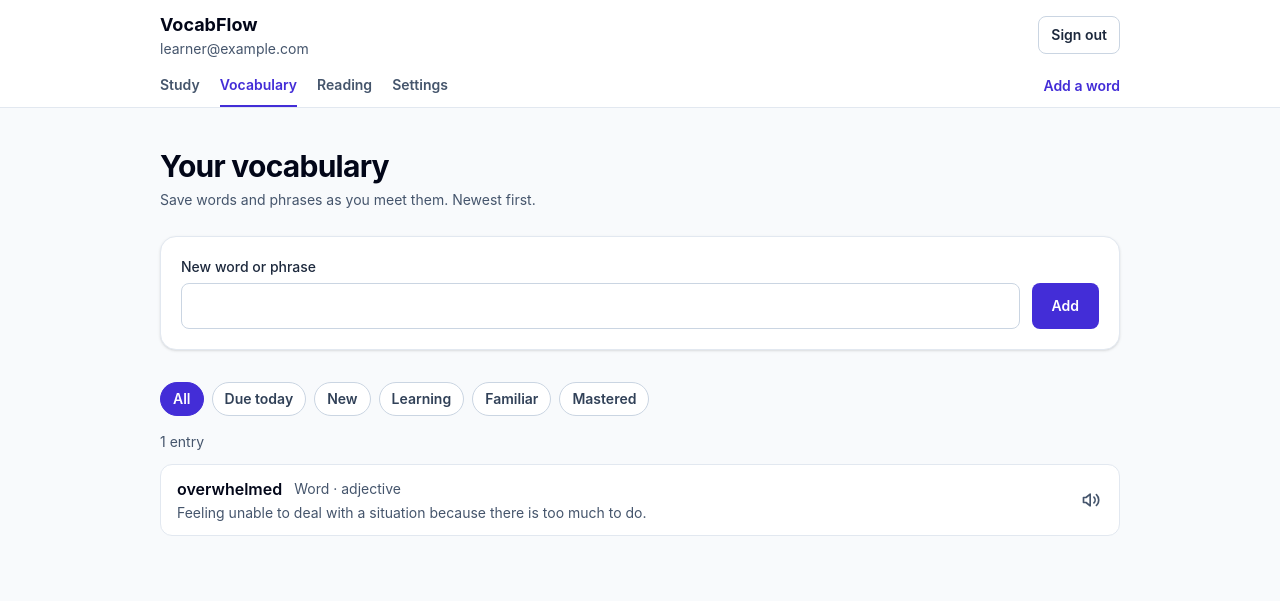
Test: shows the backend message and keeps the input when the word is already saved
The width and height of the screenshot is (1280, 601).
Type "Overwhelmed" into the field labelled "New word or phrase" at (600, 306), box 181,283 -> 1020,329
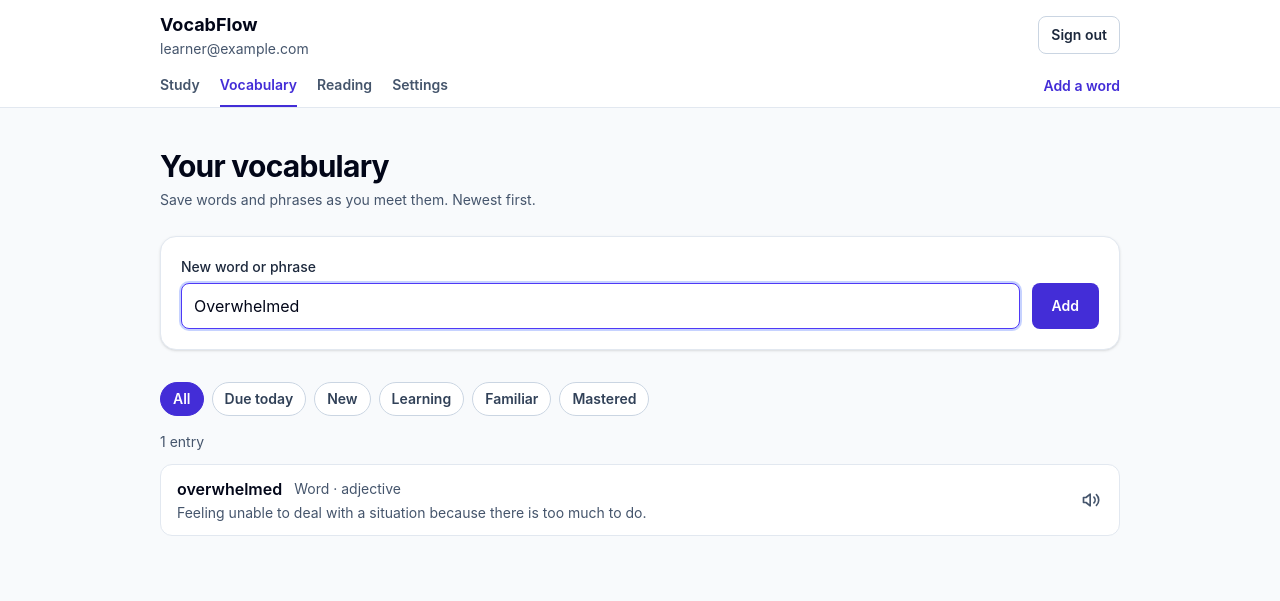
Click the button "Add" at (1065, 306), box 1032,283 -> 1099,329
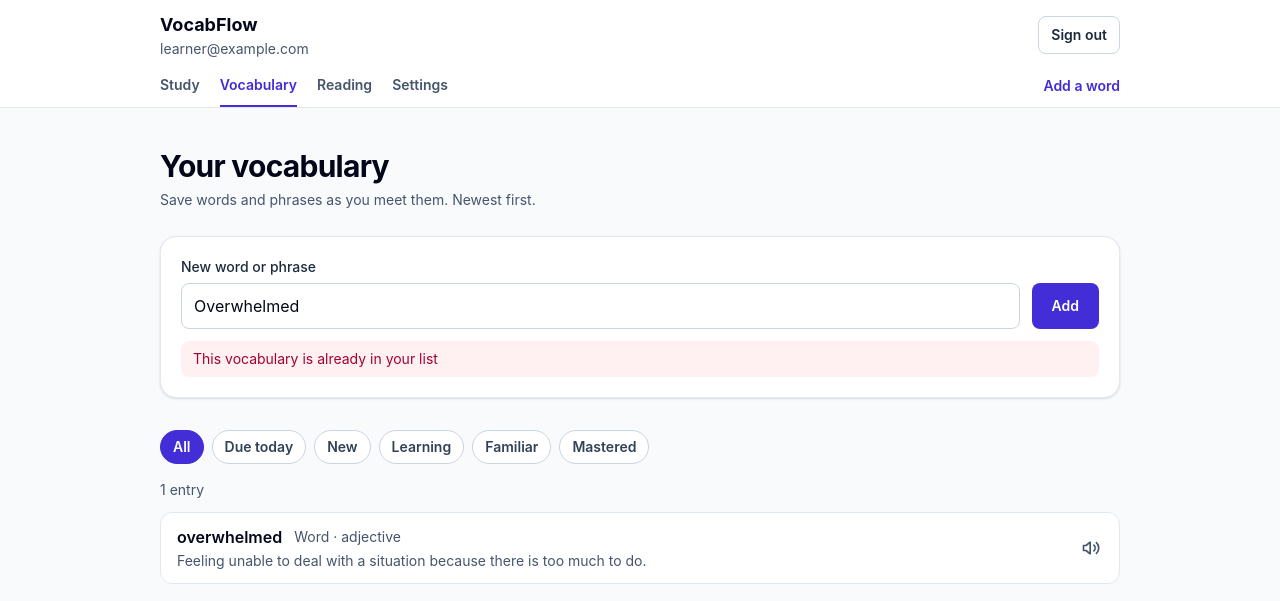
Now the message reads "This vocabulary is already in your list", box 193,350 -> 438,367
